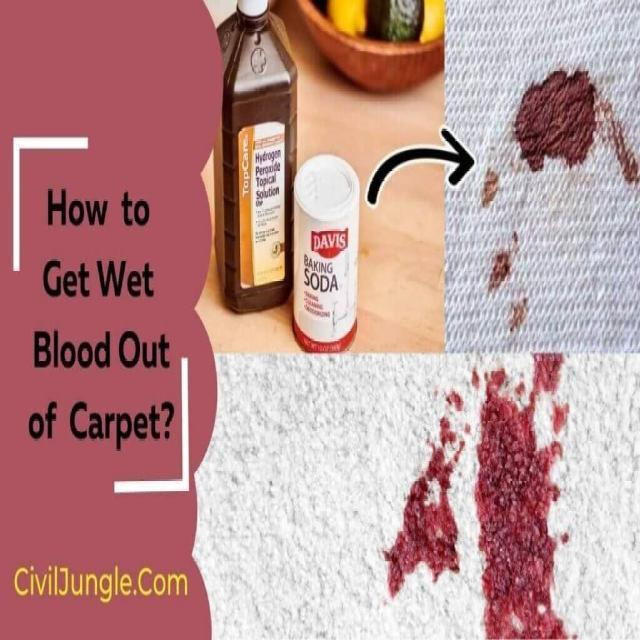flood: (396, 360, 588, 640), (496, 38, 640, 210)
